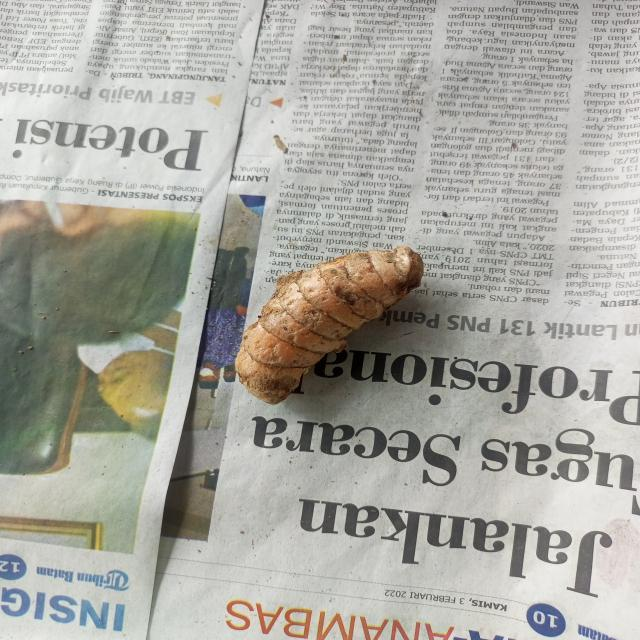ginger: (244, 248, 438, 388)
